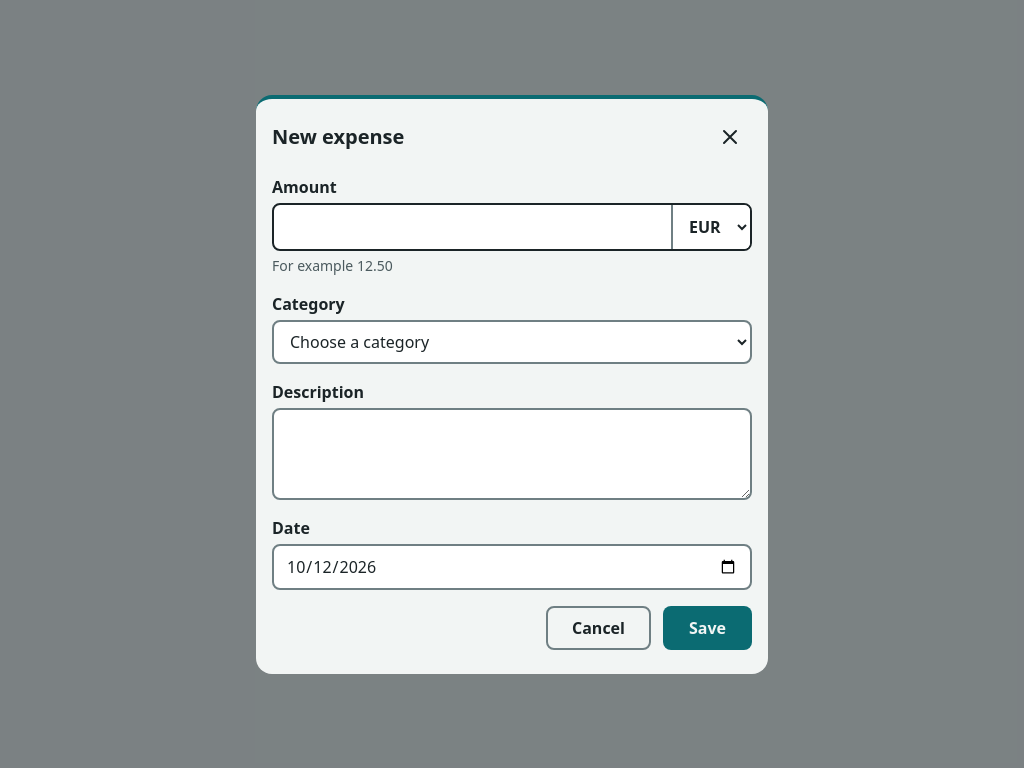
Scenario: ExpenseSheetHost › gives the draft back with the server message when validation fails
Type "12,50" into the field labelled "Amount" at coordinates (472, 226), box [274,204,671,248]
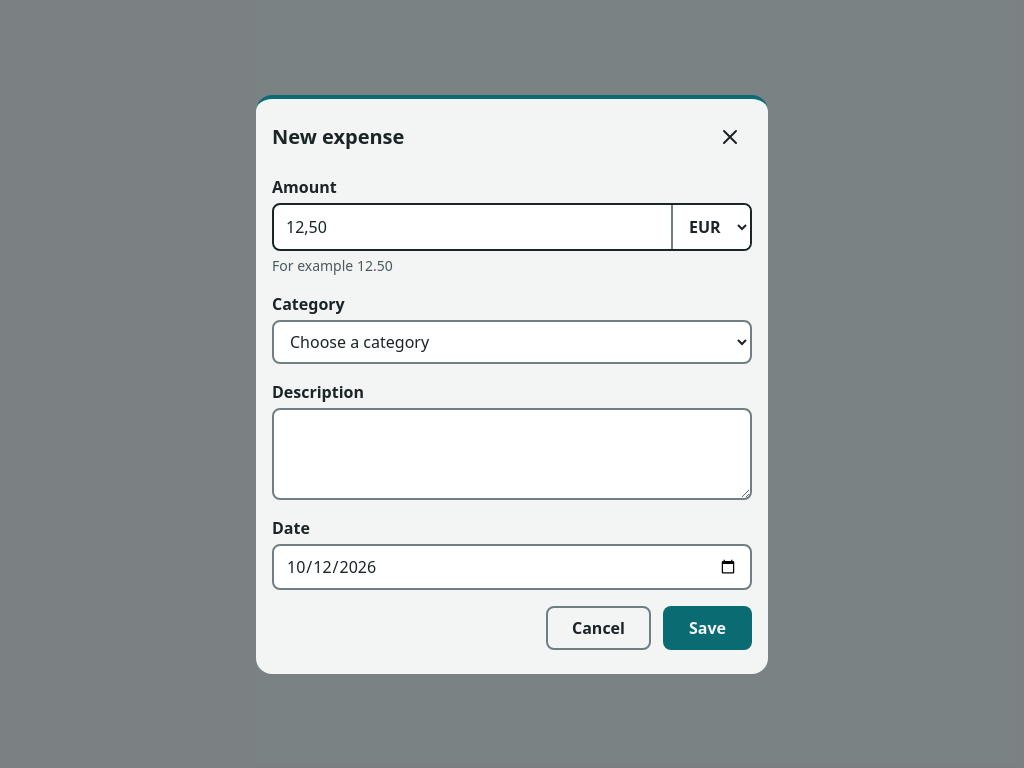
Select "Groceries" in the dropdown labelled "Category" at coordinates (512, 342), box [272,320,752,364]
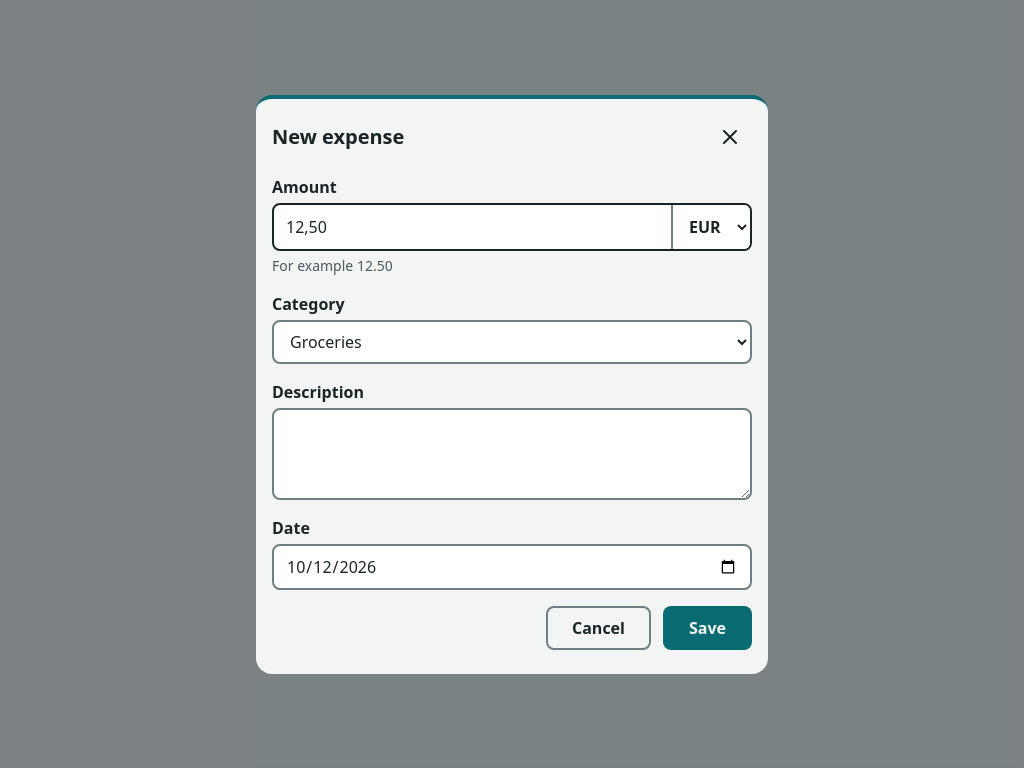
Type "Lunch" into the text box labelled "Description" at coordinates (512, 454), box [272,408,752,500]
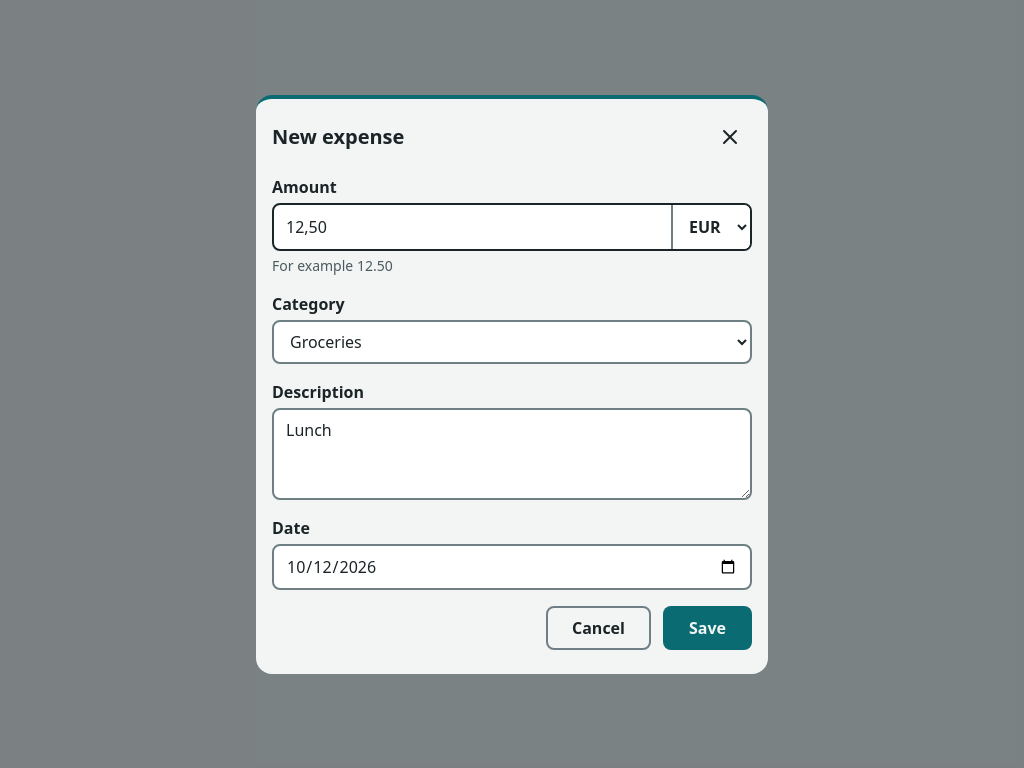
Submit the form, box [272,174,752,650]
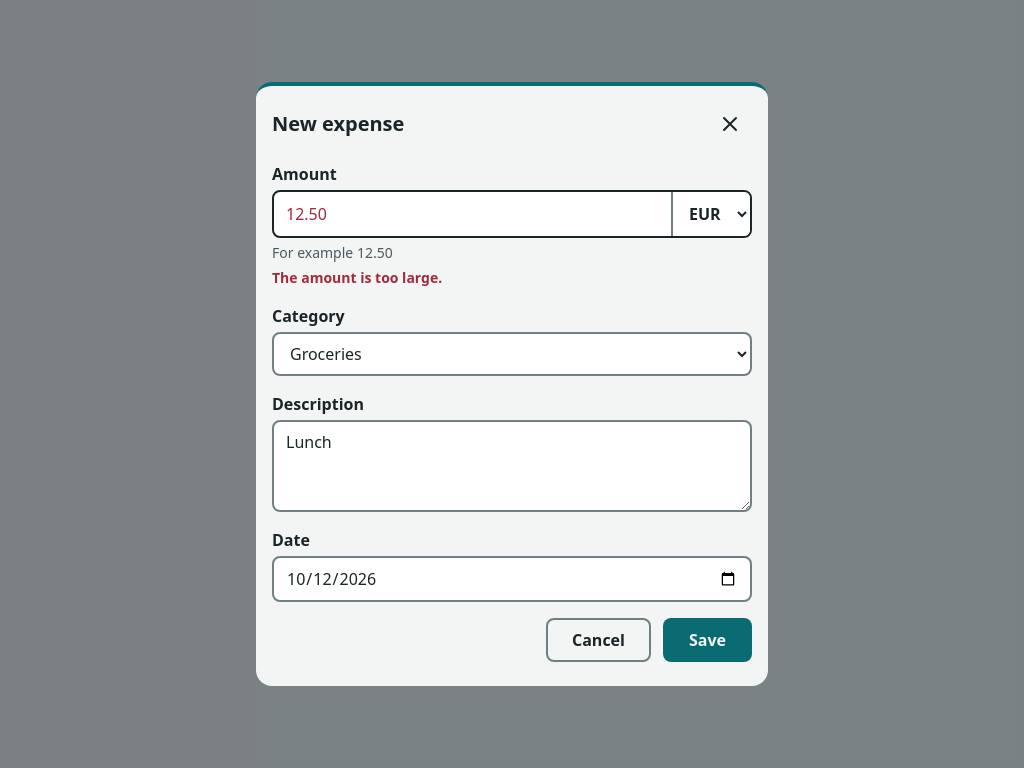
Expected: the text box labelled "Description" holds "Lunch", [272,420,752,512]
Expected: the field labelled "Amount" holds "12.50", [274,192,671,236]
Expected: the element showing "The amount is too large." is shown, [272,268,442,287]
